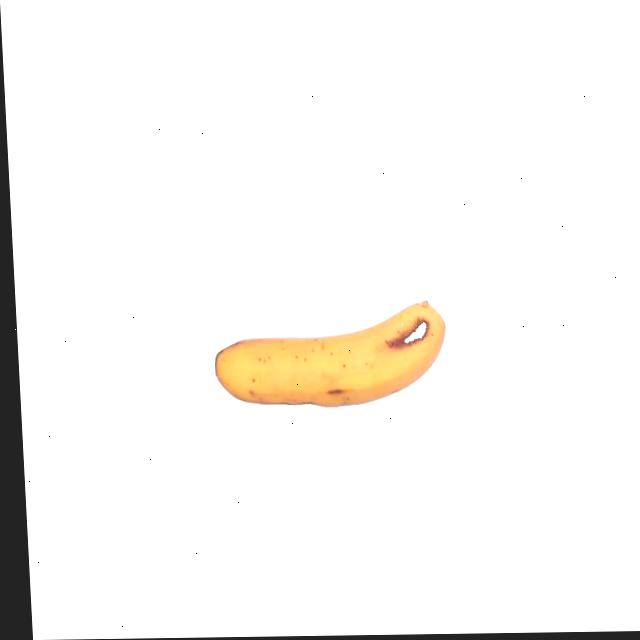banana: (208, 292, 457, 420)
